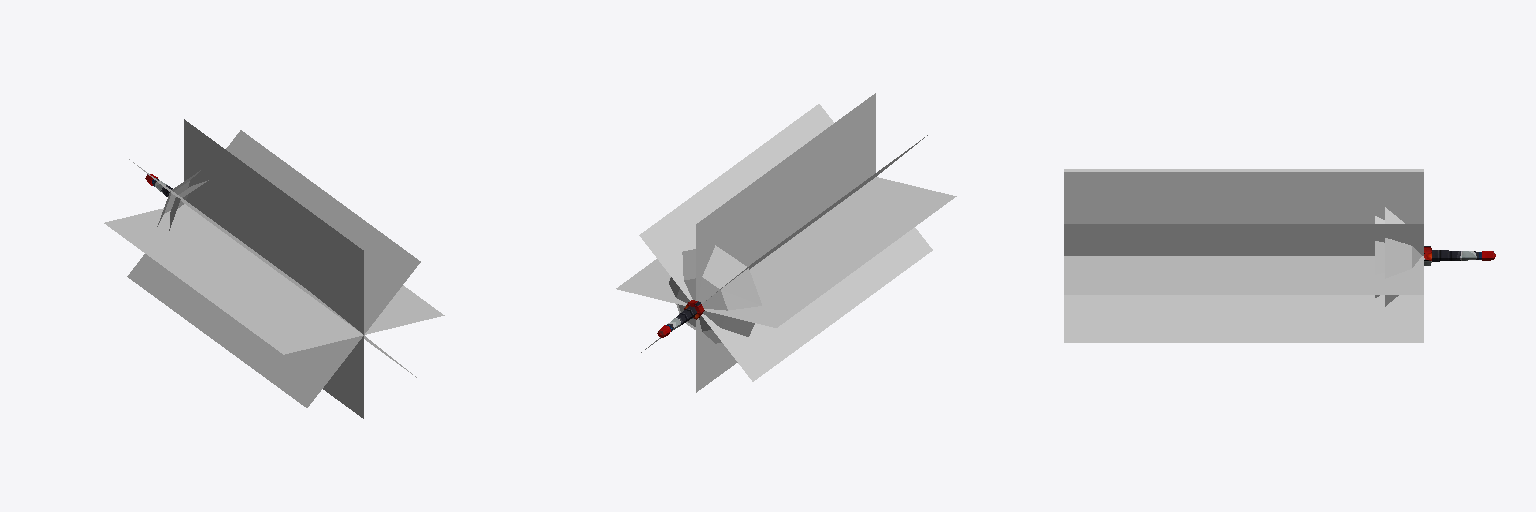
3 renders of one model, left to right at view 1: azimuth 30°, elevation 25°; view 2: azimuth 150°, elevation 25°; view 3: azimuth 270°, elevation 25°, orthographic.
Visible parts, largest first — view 1: submesh1, submesh2; view 2: submesh1, submesh2, submesh0; view 3: submesh1, submesh2, submesh0.
Part boxes in pixels (left/top/right/bottom): submesh1: left=104, top=119, right=444, bottom=418; submesh2: left=157, top=170, right=208, bottom=230; submesh1: left=616, top=93, right=956, bottom=392; submesh2: left=669, top=245, right=761, bottom=343; submesh0: left=657, top=300, right=704, bottom=337; submesh1: left=1064, top=169, right=1423, bottom=342; submesh2: left=1375, top=207, right=1421, bottom=306; submesh0: left=1424, top=246, right=1495, bottom=265.
Size of the model in its own units: 13.53 by 13.53 by 31.48.
Materials: 2 (1 with a texture image).